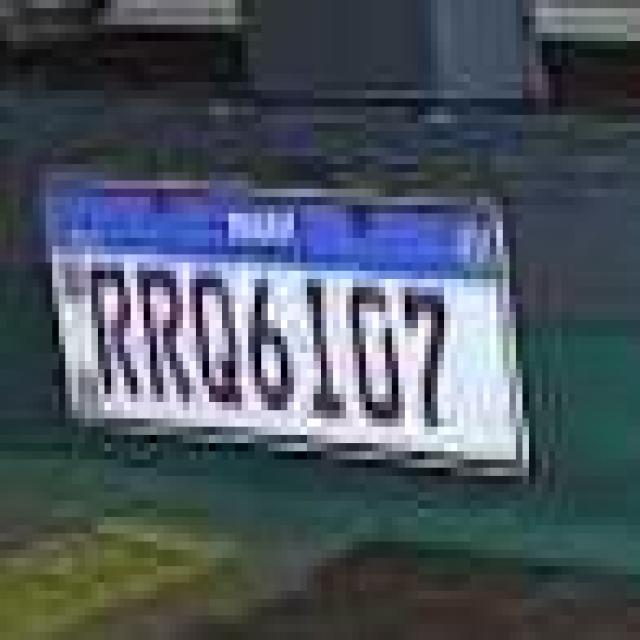0: (346, 277, 402, 429)
6: (249, 274, 296, 412)
7: (407, 282, 452, 430)
I: (297, 271, 343, 420)
Q: (190, 269, 243, 414)
R: (134, 262, 192, 408), (89, 256, 141, 404)
